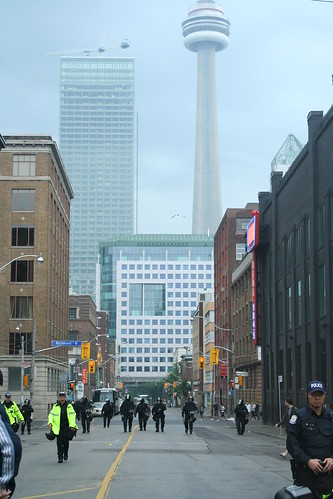building: (262, 115, 333, 423), (1, 138, 74, 425), (66, 47, 139, 299), (102, 238, 215, 388), (170, 1, 235, 237), (206, 201, 267, 408), (61, 298, 108, 390)
policeman: (279, 381, 333, 499), (45, 387, 85, 470), (178, 395, 199, 439), (147, 396, 168, 440), (134, 391, 155, 435), (117, 389, 138, 433), (231, 395, 252, 438), (98, 392, 117, 429)
sky: (234, 1, 333, 122), (1, 1, 167, 54)
street: (1, 414, 303, 499)
